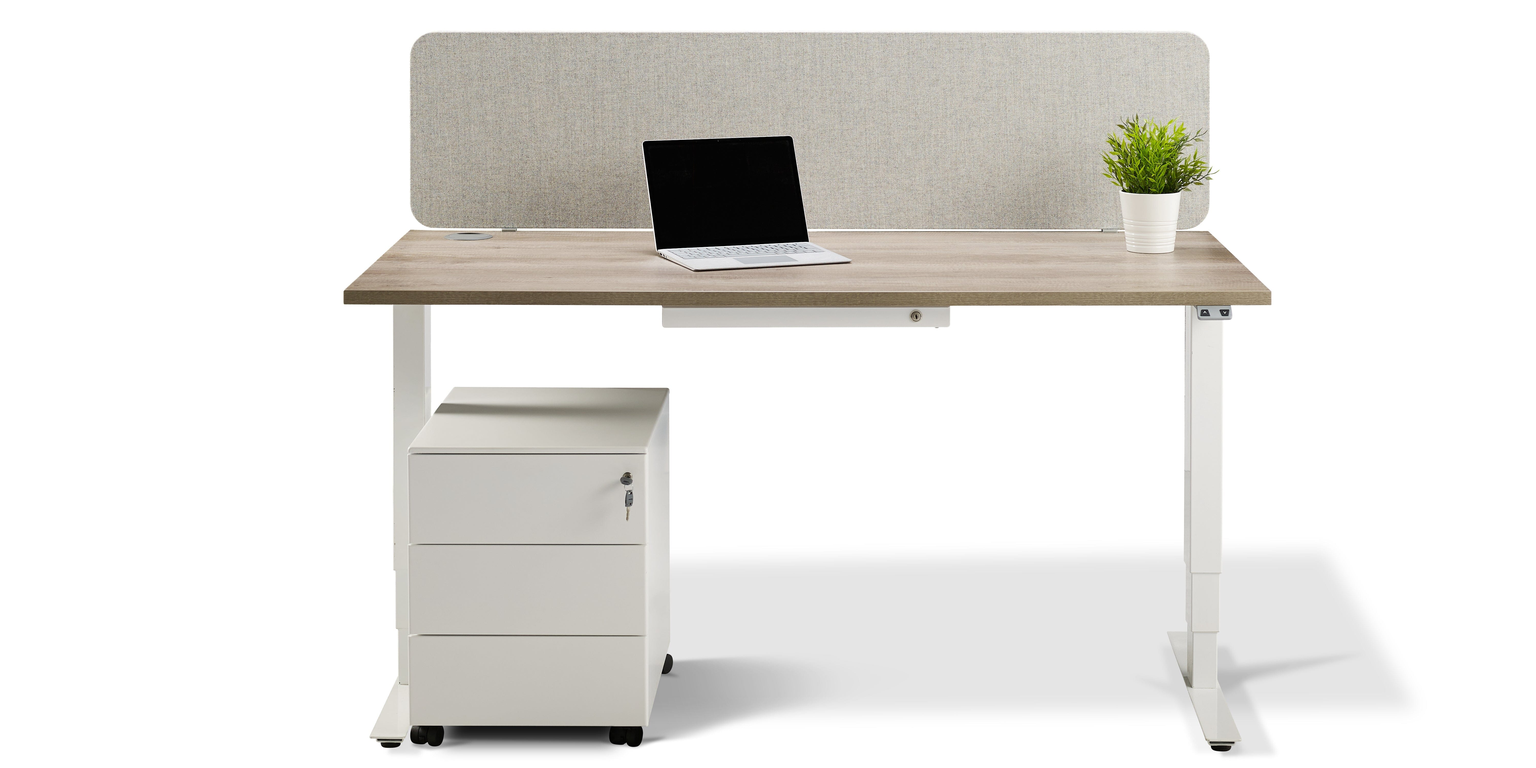not a gesture sign: (408, 545, 649, 635)
